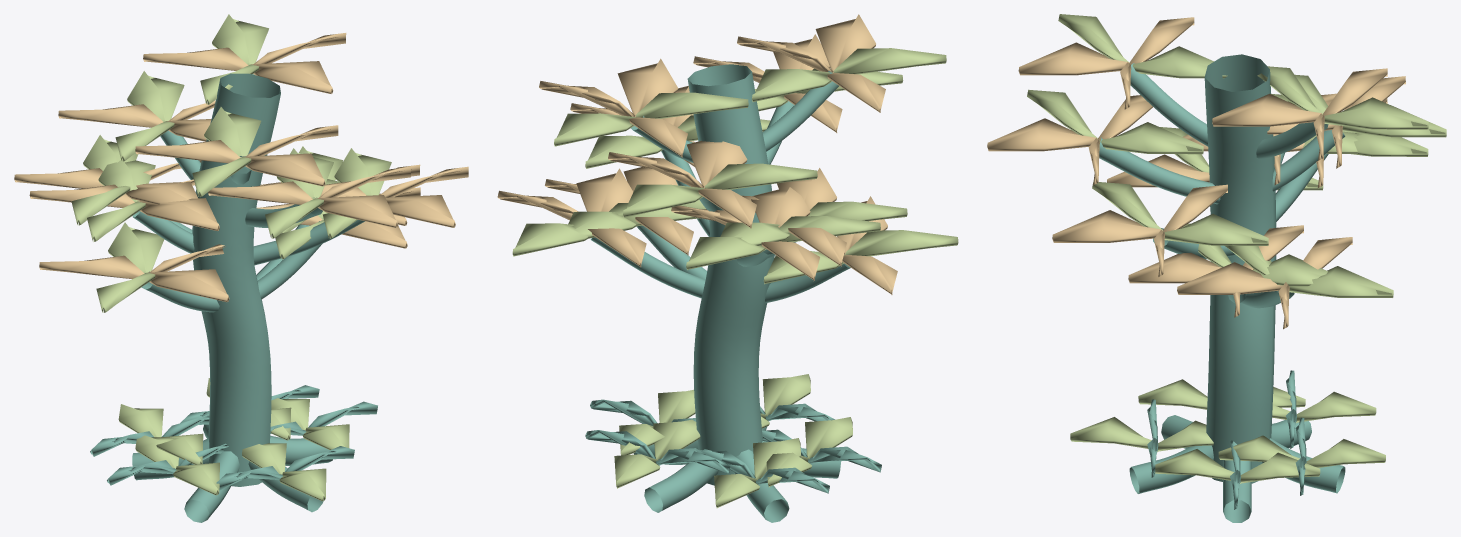
The model's file is bio_canopy_tree_25_near.glb.
The picture shows the model from 3 angles, left to right: view 1: azimuth 30°, elevation 25°; view 2: azimuth 150°, elevation 25°; view 3: azimuth 270°, elevation 25°; orthographic projection. The views are drawn at different scales.
Visible parts, largest first — view 1: Buttressed trunk, Broad canopy leaf.035, Broad canopy leaf.010, Broad canopy leaf.015, Broad canopy leaf.020, Broad canopy leaf.005, Broad canopy leaf.045, Broad canopy leaf.036, Broad canopy leaf.025, Broad canopy leaf.021, Broad canopy leaf.031, Broad canopy leaf.030 (+17 smaller); view 2: Buttressed trunk, Broad canopy leaf.035, Broad canopy leaf.015, Broad canopy leaf.030, Broad canopy leaf.016, Broad canopy leaf.031, Broad canopy leaf.036, Broad canopy leaf.040, Broad canopy leaf.005, Broad canopy leaf.006, Broad canopy leaf.021, Broad canopy leaf.046 (+19 smaller); view 3: Buttressed trunk, Broad canopy leaf.035, Broad canopy leaf.015, Broad canopy leaf.025, Broad canopy leaf.010, Broad canopy leaf.026, Broad canopy leaf.011, Broad canopy leaf.040, Broad canopy leaf.016, Broad canopy leaf.036, Broad canopy leaf, Low buttress leaf.001 (+14 smaller).
Boxes of the visible parts, x1,y1,x2,y2 form: Buttressed trunk: (132, 73, 364, 522); Broad canopy leaf.035: (135, 125, 338, 186); Broad canopy leaf.010: (208, 166, 410, 227); Broad canopy leaf.015: (143, 33, 346, 93); Broad canopy leaf.020: (39, 244, 229, 302); Broad canopy leaf.005: (14, 160, 201, 204); Broad canopy leaf.045: (29, 179, 219, 230); Broad canopy leaf.036: (192, 107, 261, 197); Broad canopy leaf.025: (321, 166, 468, 227); Broad canopy leaf.021: (96, 222, 164, 312); Broad canopy leaf.031: (115, 71, 184, 161); Broad canopy leaf.030: (58, 100, 215, 141); Buttressed trunk: (590, 64, 850, 522); Broad canopy leaf.035: (737, 14, 885, 112); Broad canopy leaf.015: (539, 58, 687, 157); Broad canopy leaf.030: (608, 140, 756, 228); Broad canopy leaf.016: (554, 92, 748, 146); Broad canopy leaf.031: (623, 163, 817, 217); Broad canopy leaf.036: (752, 48, 946, 101); Broad canopy leaf.040: (497, 168, 646, 267); Broad canopy leaf.005: (671, 187, 819, 281); Broad canopy leaf.006: (686, 216, 880, 269); Broad canopy leaf.021: (763, 230, 958, 284); Broad canopy leaf.046: (720, 201, 907, 245); Buttressed trunk: (1099, 54, 1345, 522); Broad canopy leaf.035: (1018, 17, 1194, 109); Broad canopy leaf.015: (1212, 68, 1387, 160); Broad canopy leaf.025: (1052, 184, 1227, 276); Broad canopy leaf.010: (987, 95, 1152, 185); Broad canopy leaf.026: (1092, 182, 1268, 245); Broad canopy leaf.011: (1027, 89, 1203, 154); Broad canopy leaf.040: (1177, 237, 1352, 329); Broad canopy leaf.016: (1257, 66, 1428, 129); Broad canopy leaf.036: (1058, 14, 1227, 78); Broad canopy leaf: (1128, 225, 1303, 317); Low buttress leaf.001: (1155, 449, 1320, 483).
Bounding box in the file's own units: 3.06 × 3.05 × 3.05.
